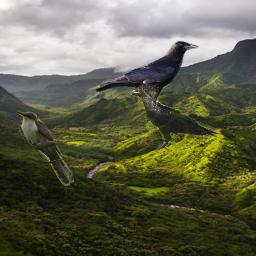Crow: (94, 40, 199, 116), (129, 88, 221, 150)
Cuckoo: (16, 110, 74, 186)
